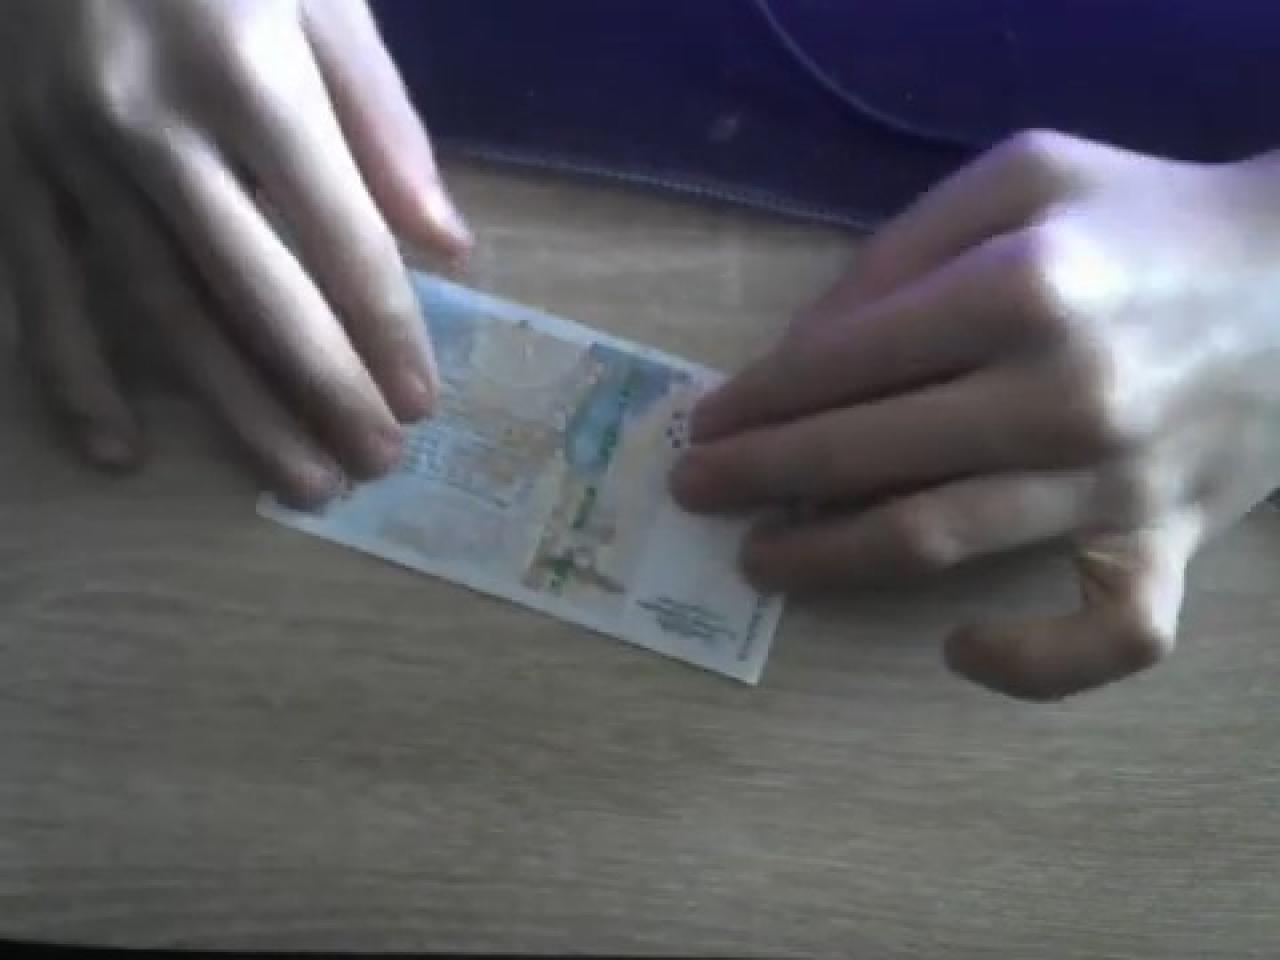20leva: (253, 274, 787, 686)
